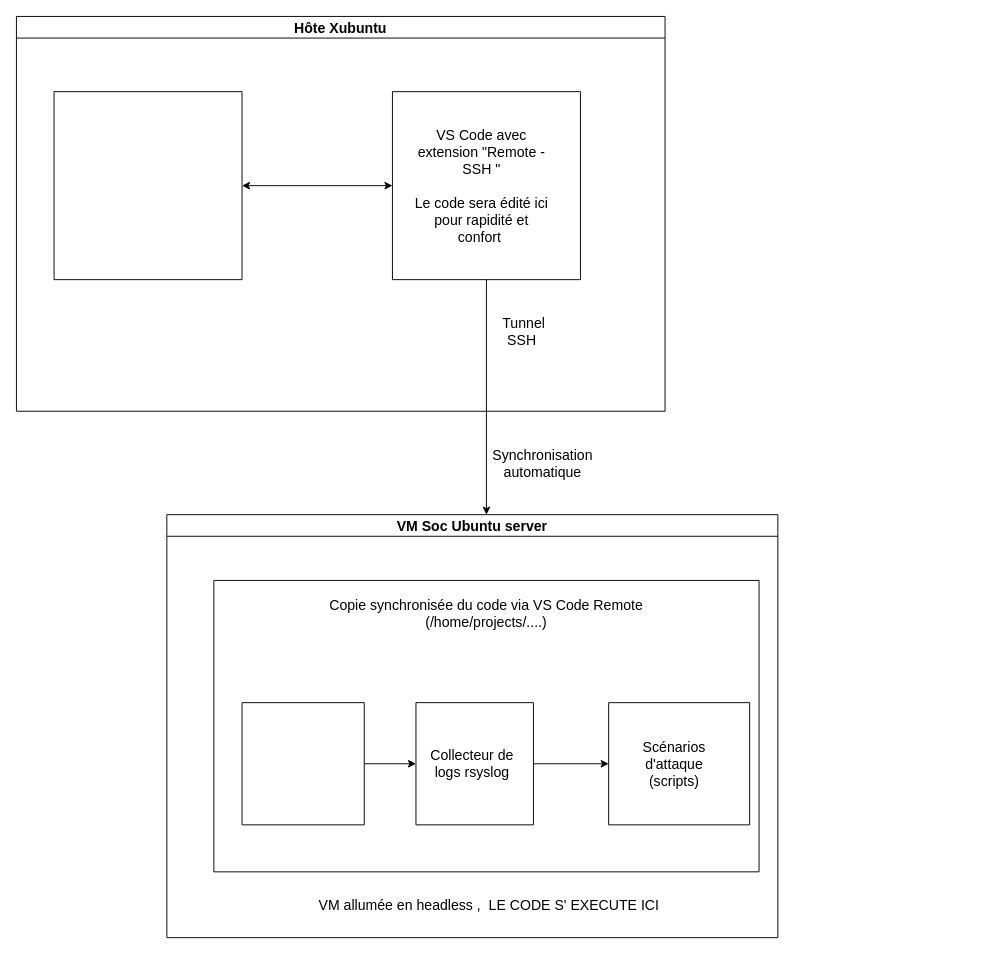
Image size: 982x956. Some labels were removed from this diagram. Each missing label, with the centre of its shape:
"Dossier local ~/projets/SocProject/ - engine/ -collector/ scenarios/" belongs at pixel 147 185.
"Moteur Python en cours d' exécution" belongs at pixel 302 763.
